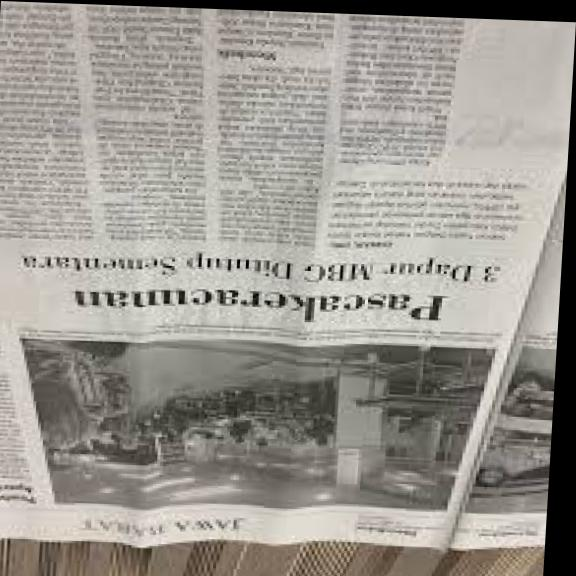Kertas: (0, 0, 576, 558)
